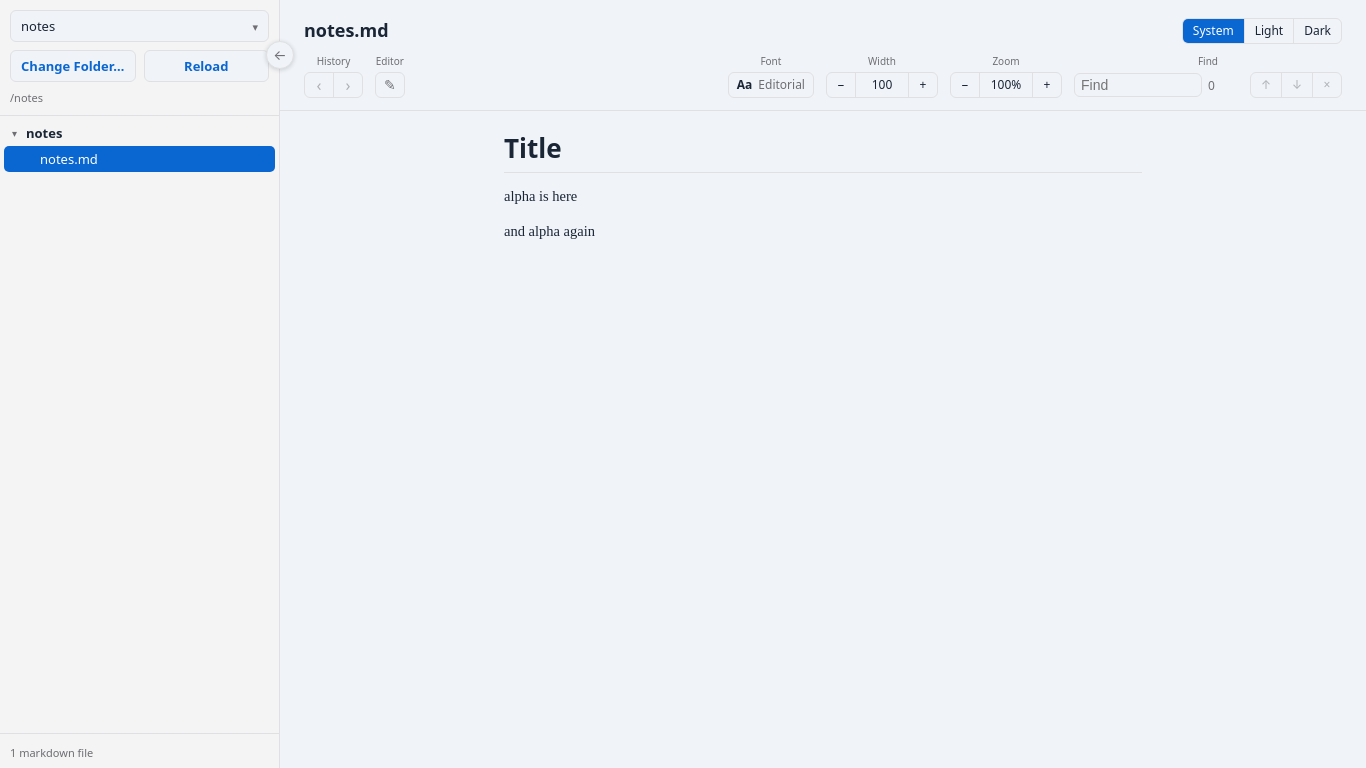
Test case: clears the marks
The width and height of the screenshot is (1366, 768).
In the field named "Find in document": (1138,85) [1074,73,1202,97], type "alpha"
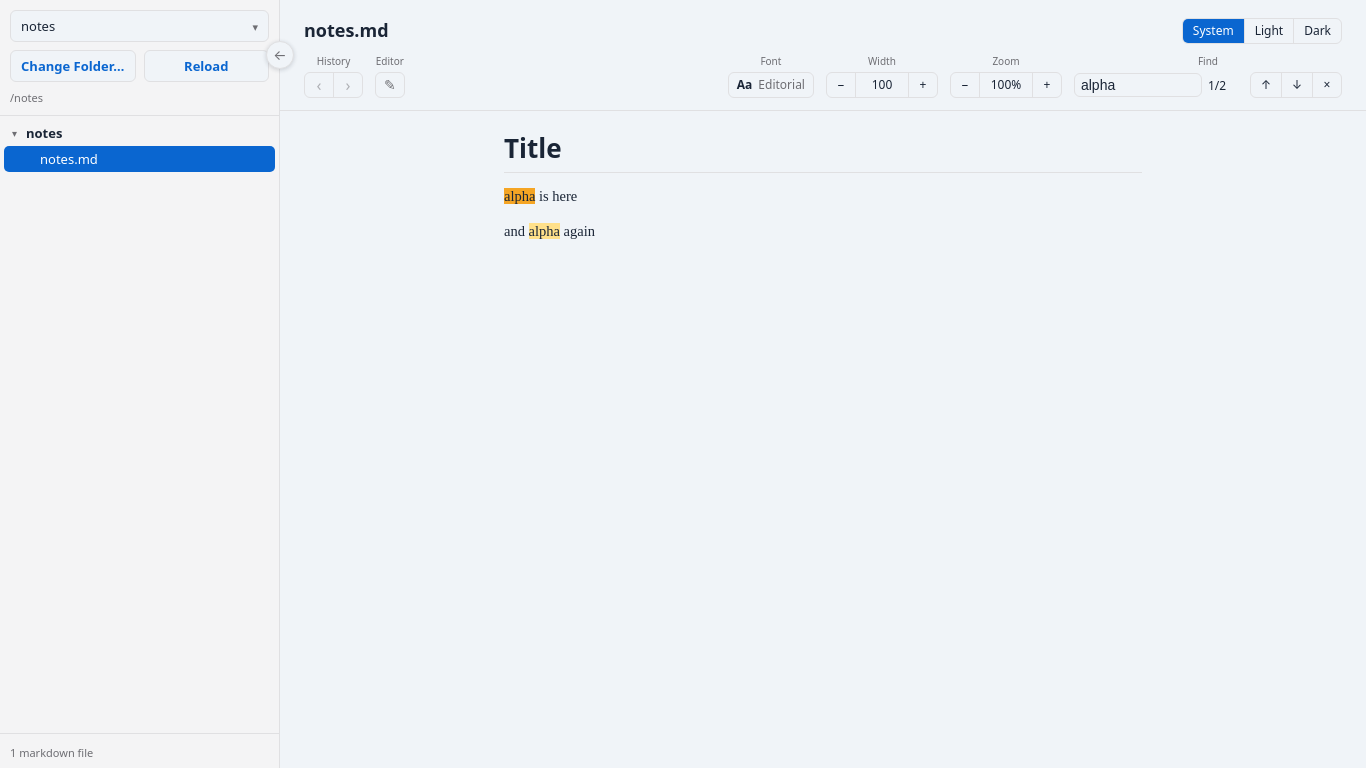
Click the button named "Clear find": (1327,85) [1313,73,1341,97]
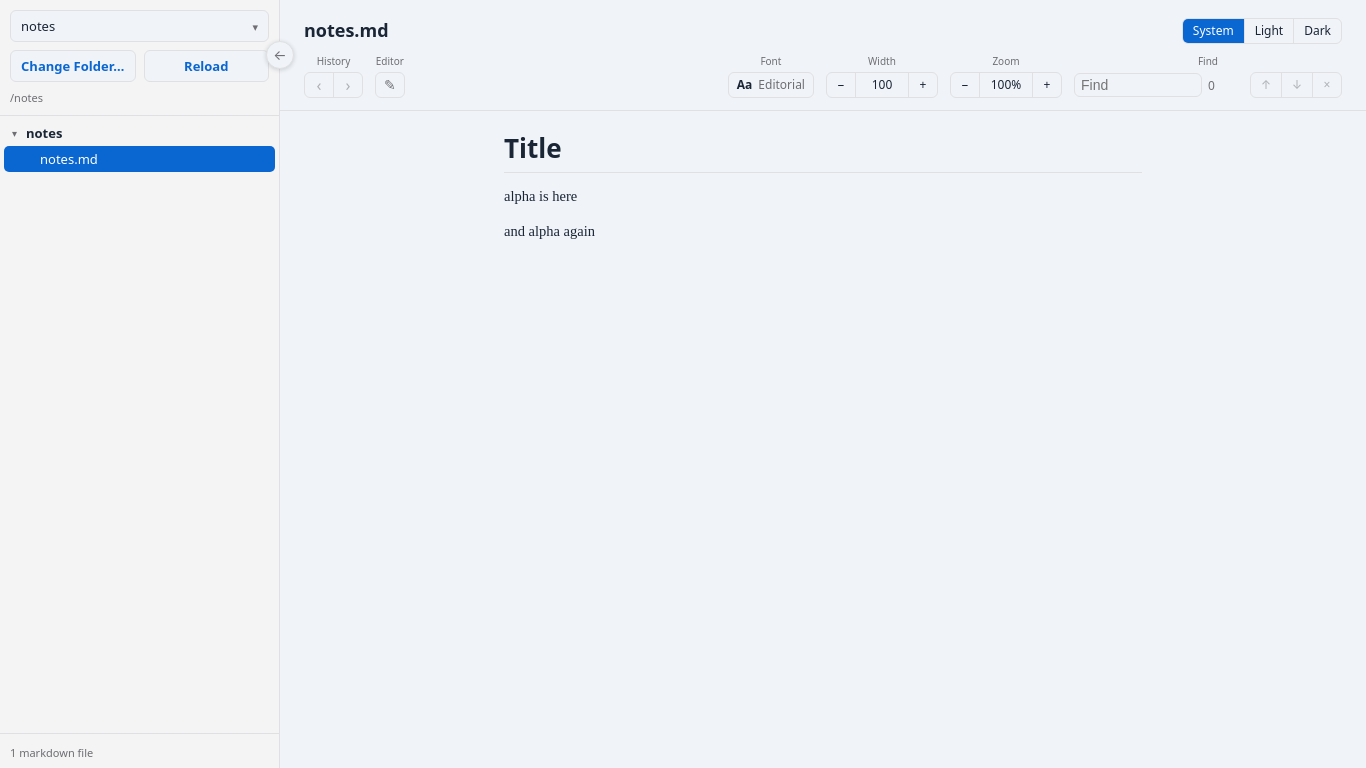
Check: the field named "Find in document" is empty, box [1074,73,1202,97]
